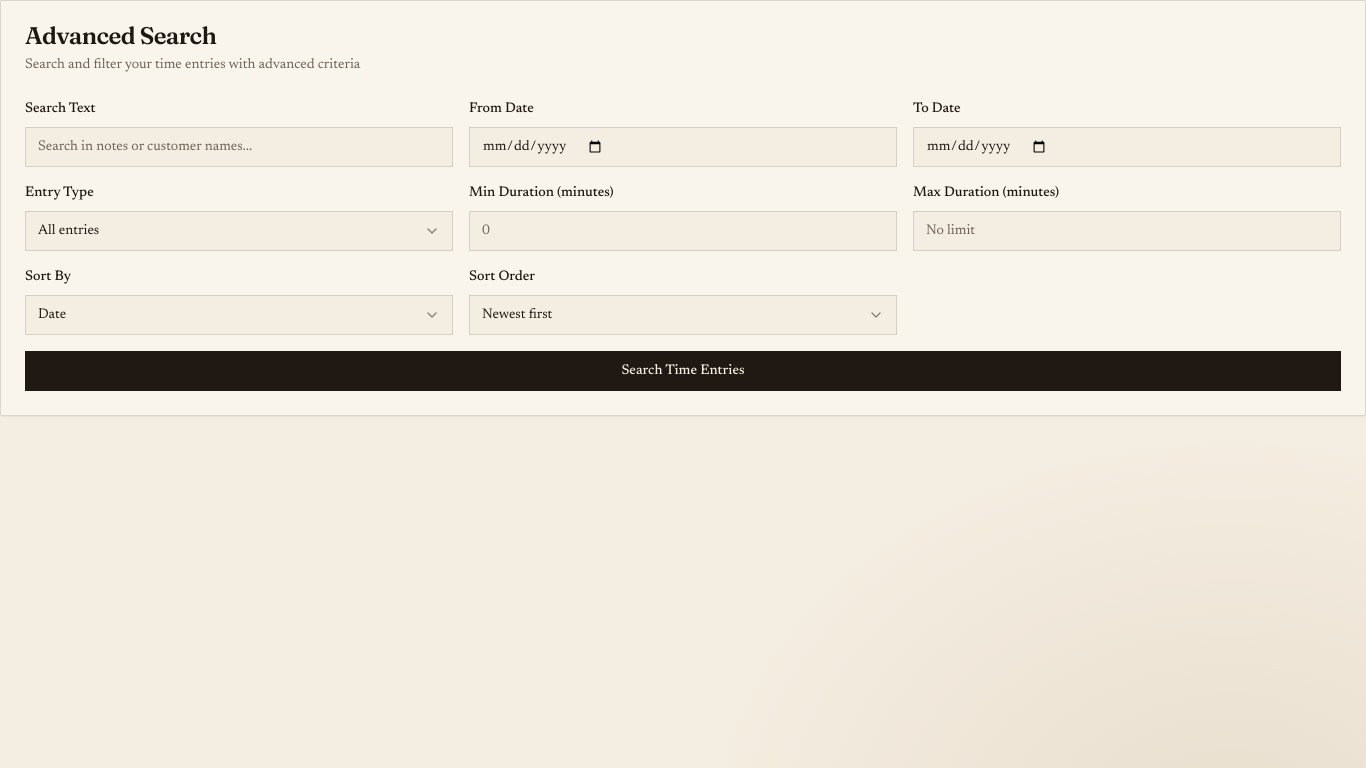
AdvancedSearch Component › displays search results after successful search
Click the button "Search Time Entries".
click(683, 371)  # box [25, 351, 1341, 391]
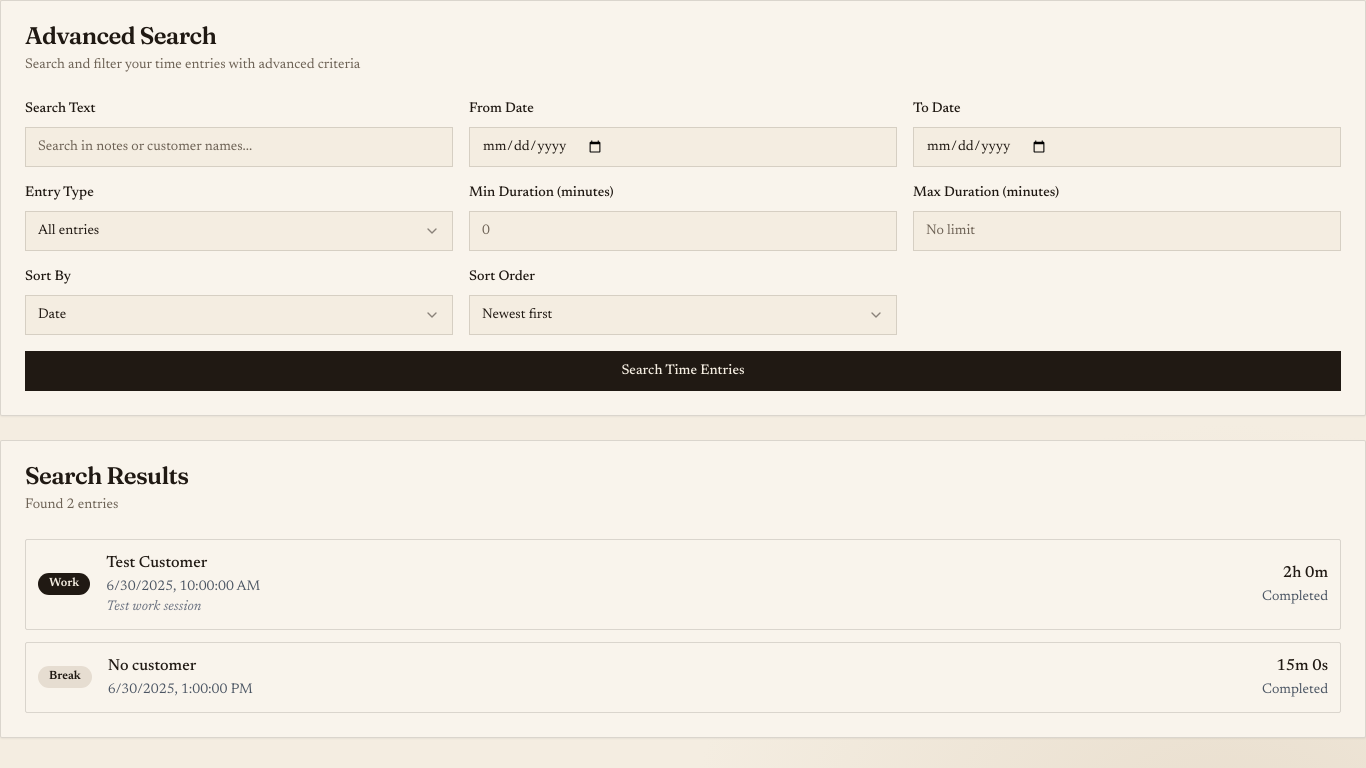
Expected: the heading "Search Results" is shown, [25, 462, 188, 491]
Expected: the text "Found 2 entries" is shown, [25, 498, 118, 512]
Expected: the text "Test Customer" is shown, [106, 556, 207, 572]
